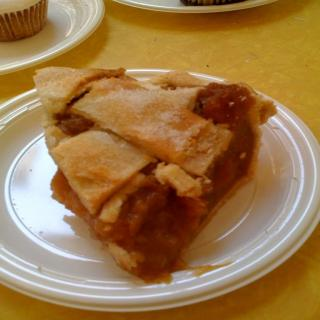Muffin: (0, 0, 48, 42)
